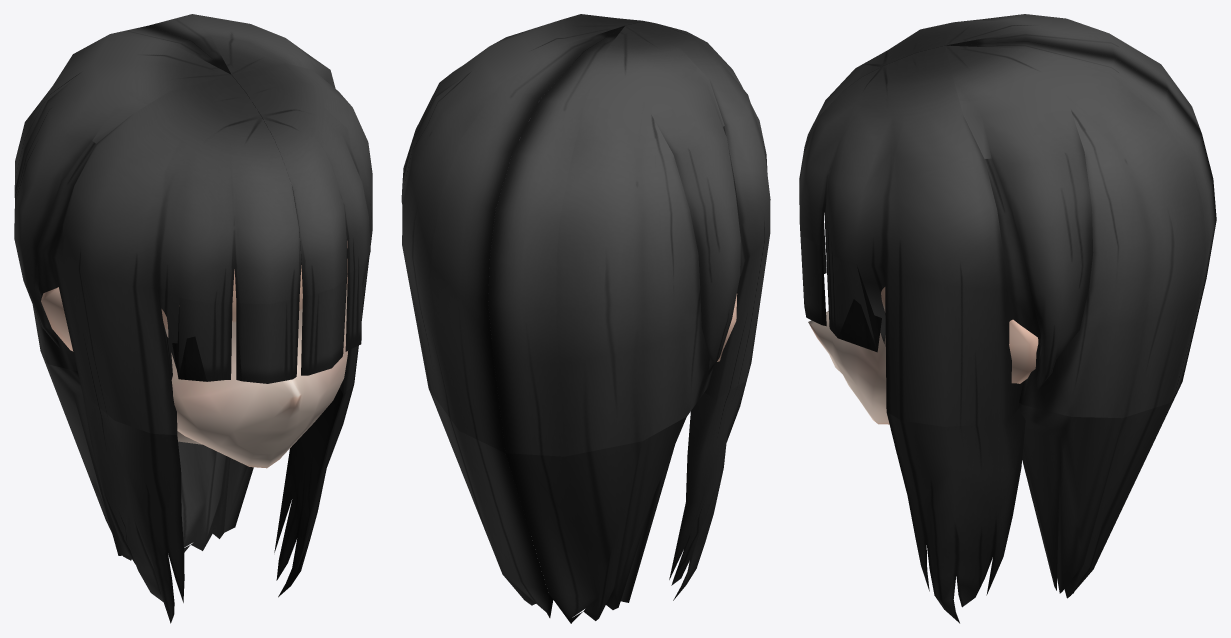
The picture shows the model from 3 angles, left to right: view 1: azimuth 30°, elevation 25°; view 2: azimuth 150°, elevation 25°; view 3: azimuth 270°, elevation 25°; orthographic projection. The views are drawn at different scales.
Visible parts, largest first — view 1: 頭髮 右半_0, 頭髮 左半_0, 頭部_0, 髮片 側右_0, 頭髮 前右_0, 頭髮 右半_1, 髮片 側左_0, 頭髮 前左_0, 髮片 後左_0, 頭髮 左半_1, 髮片 後右_0, 頭部_1 (+5 smaller); view 2: 頭髮 右半_0, 頭髮 左半_0, 髮片 後右_0, 髮片 後左_0, 髮片 側右_0, 頭髮 右半_1, 髮片 後右_1, 頭髮 左半_1, 髮片 側右_1, 髮片 後左_1; view 3: 頭髮 左半_0, 髮片 側左_0, 髮片 後左_0, 頭髮 右半_0, 頭髮 左半_1, 髮片 後左_1, 頭部_0, 頭髮 前左_0, 髮片 側左_1, 頭髮 前左_1, 頭髮 右半_1, 頭部_1.
Boxes of the visible parts, box(x1,y1,x2,y2) form: 頭髮 右半_0: box(14, 25, 301, 434); 頭髮 左半_0: box(149, 14, 372, 394); 頭部_0: box(41, 241, 347, 468); 髮片 側右_0: box(83, 396, 184, 615); 頭髮 前右_0: box(178, 296, 299, 383); 頭髮 右半_1: box(39, 41, 292, 369); 髮片 側左_0: box(274, 385, 353, 586); 頭髮 前左_0: box(301, 251, 370, 375); 髮片 後左_0: box(178, 441, 253, 549); 頭髮 左半_1: box(192, 24, 350, 286); 髮片 後右_0: box(41, 353, 131, 560); 頭部_1: box(221, 265, 343, 453); 頭髮 右半_0: box(488, 22, 770, 456); 頭髮 左半_0: box(401, 14, 652, 452); 髮片 後右_0: box(505, 416, 686, 623); 髮片 後左_0: box(429, 390, 553, 617); 髮片 側右_0: box(669, 367, 750, 586); 頭髮 右半_1: box(584, 23, 746, 400); 髮片 後右_1: box(549, 445, 674, 623); 頭髮 左半_1: box(436, 18, 653, 109); 髮片 側右_1: box(669, 455, 719, 600); 髮片 後左_1: box(503, 575, 548, 612); 頭髮 左半_0: box(799, 41, 1216, 426); 髮片 側左_0: box(886, 407, 1025, 613); 髮片 後左_0: box(1019, 385, 1180, 598); 頭髮 右半_0: box(799, 14, 1201, 184); 頭髮 左半_1: box(825, 41, 1110, 423); 髮片 後左_1: box(1023, 429, 1093, 594); 頭部_0: box(808, 287, 1038, 424); 頭髮 前左_0: box(799, 223, 876, 349); 髮片 側左_1: box(896, 452, 1014, 623); 頭髮 前左_1: box(838, 266, 881, 352); 頭髮 右半_1: box(820, 14, 1065, 113); 頭部_1: box(832, 321, 1010, 412).
Size of the model in its own units: 0.2581 by 0.4185 by 0.2839.
